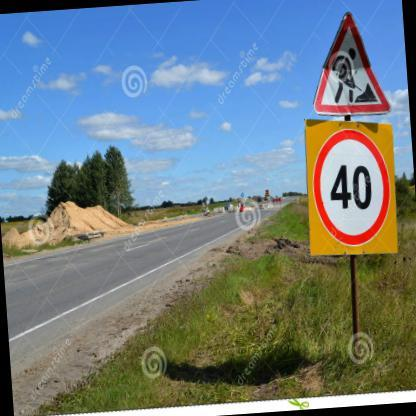road_sign: (307, 123, 394, 252), (314, 12, 390, 115)
